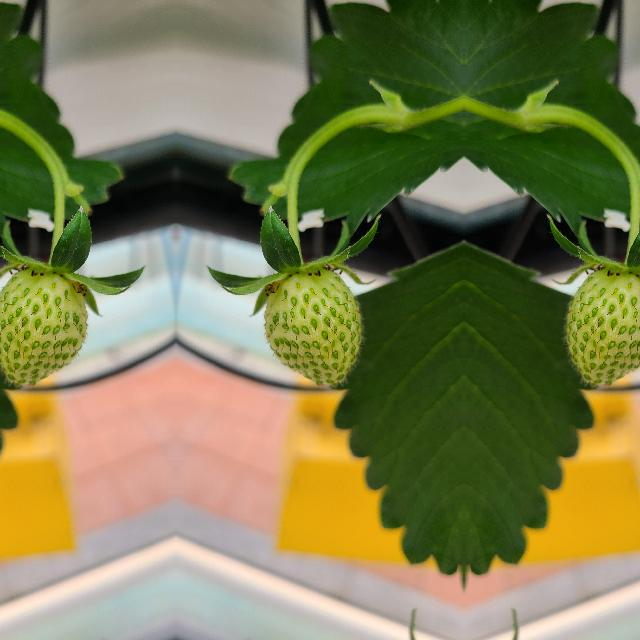Health_25: (263, 269, 359, 383), (0, 269, 87, 383), (567, 269, 640, 383)
